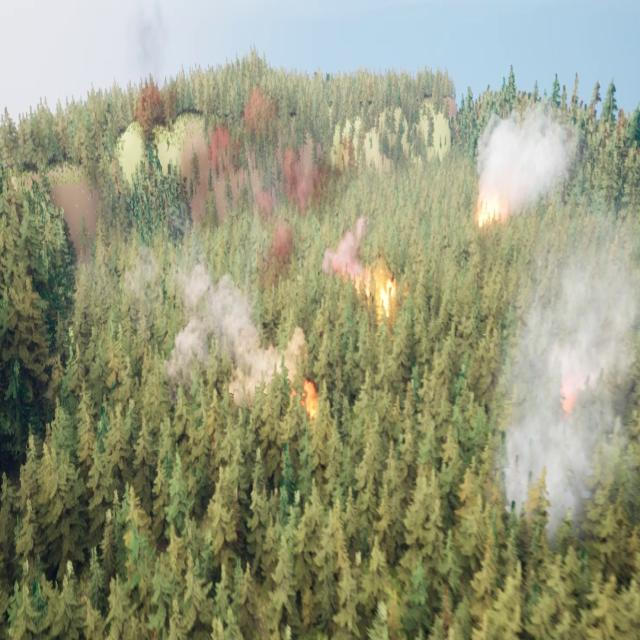fire: (362, 255, 411, 328), (296, 380, 325, 418), (475, 191, 503, 222)
smoke: (504, 212, 640, 529), (162, 263, 301, 397), (478, 102, 580, 200), (321, 205, 364, 284)
